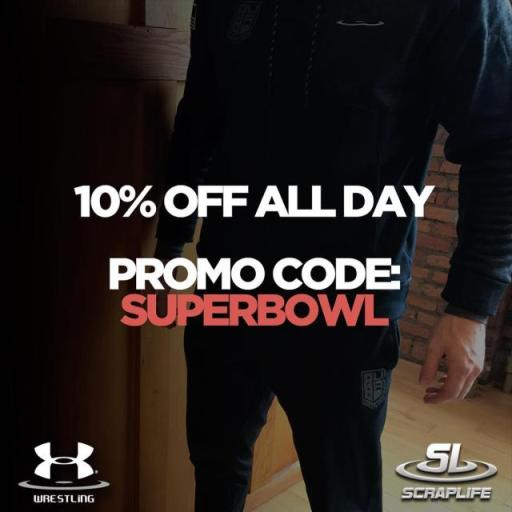Under Armour: (30, 438, 100, 482)
